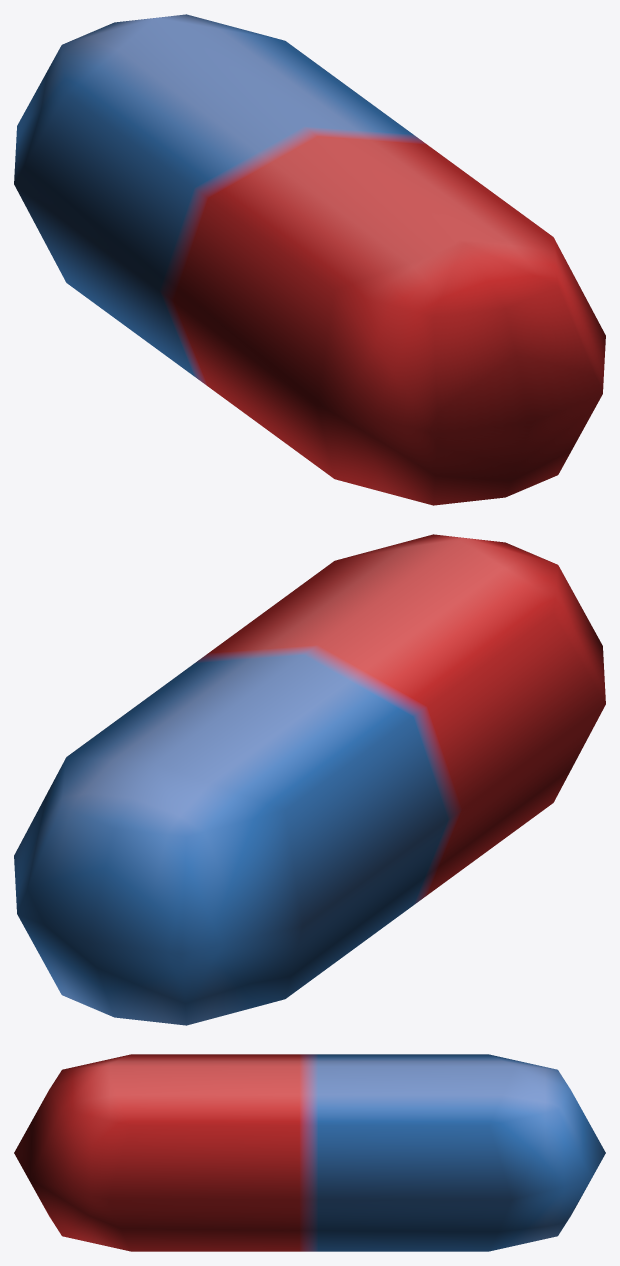
The model's file is ITEM_pill_capsule.fbx.
3 renders of one model, top to bottom at view 1: azimuth 30°, elevation 25°; view 2: azimuth 150°, elevation 25°; view 3: azimuth 270°, elevation 25°, orthographic. The views are drawn at different scales.
Parts seen in each view (by area): view 1: ITEM_pill_capsule; view 2: ITEM_pill_capsule; view 3: ITEM_pill_capsule.
Boxes of the visible parts, x1,y1,x2,y2 form: ITEM_pill_capsule: (14, 14, 605, 505); ITEM_pill_capsule: (14, 534, 605, 1025); ITEM_pill_capsule: (14, 1054, 605, 1251).
Bounding box in the file's own units: 0.00988 × 0.00845 × 0.0263.
